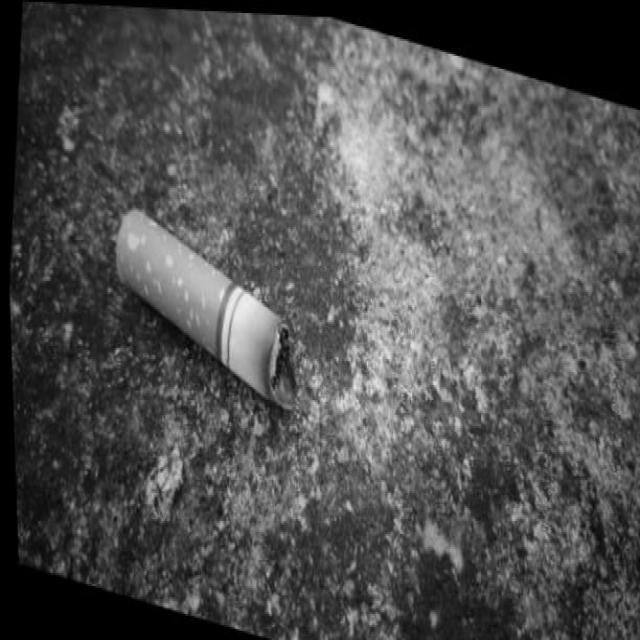cigarette: (99, 195, 314, 422)
